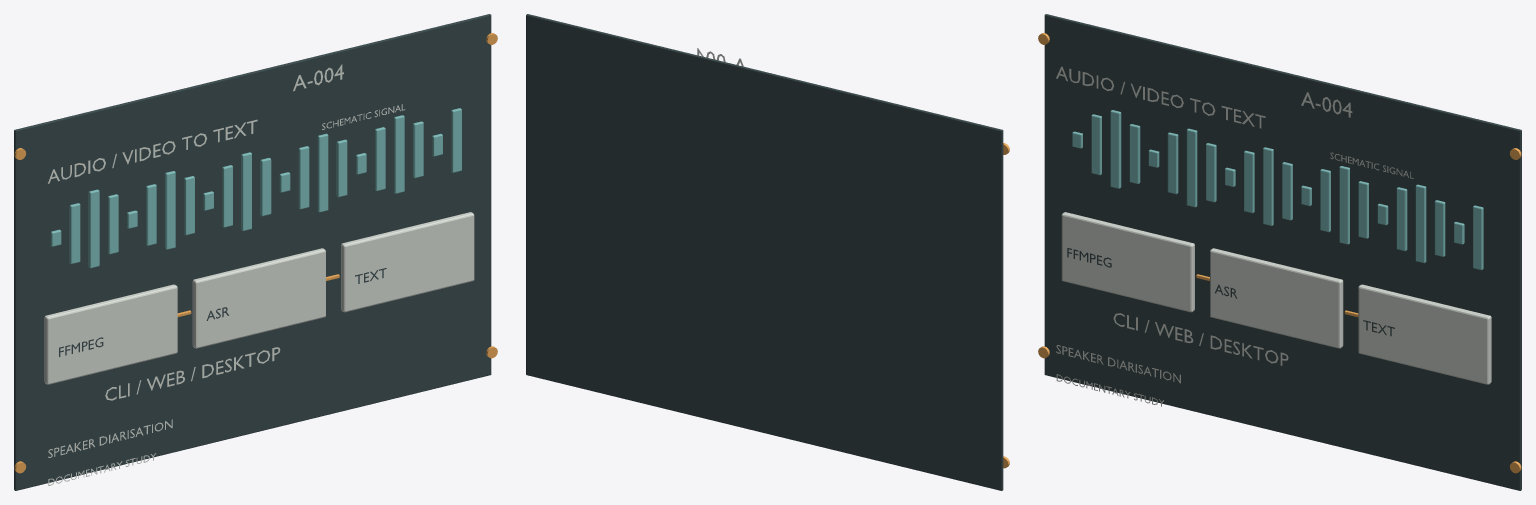
Rendered from transcription.glb.
The picture shows the model from 3 angles, left to right: view 1: azimuth 30°, elevation 25°; view 2: azimuth 150°, elevation 25°; view 3: azimuth 330°, elevation 25°; orthographic projection.
Parts seen in each view (by area): view 1: optical-core__Project_Graphite.023, optical-core__Project_Ceramic.019, optical-core__Project_Trace.009, optical-lenses__Project_Ceramic.023, optical-lenses__Project_Amber.023; view 2: optical-core__Project_Graphite.023; view 3: optical-core__Project_Graphite.023, optical-core__Project_Ceramic.019, optical-core__Project_Trace.009, optical-lenses__Project_Ceramic.023, optical-lenses__Project_Amber.023.
Boxes of the visible parts, x1,y1,x2,y2 form: optical-core__Project_Graphite.023: (14,14,491,490); optical-core__Project_Ceramic.019: (44,212,474,384); optical-core__Project_Trace.009: (50,108,461,268); optical-lenses__Project_Ceramic.023: (48,64,405,485); optical-lenses__Project_Amber.023: (14,33,497,473); optical-core__Project_Graphite.023: (526,14,1003,490); optical-core__Project_Graphite.023: (1044,14,1521,490); optical-core__Project_Ceramic.019: (1061,212,1491,384); optical-core__Project_Trace.009: (1072,110,1483,270); optical-lenses__Project_Ceramic.023: (1056,66,1413,406); optical-lenses__Project_Amber.023: (1038,33,1521,473).
Bounding box in the file's own units: 4.17 × 2.98 × 0.1795.
